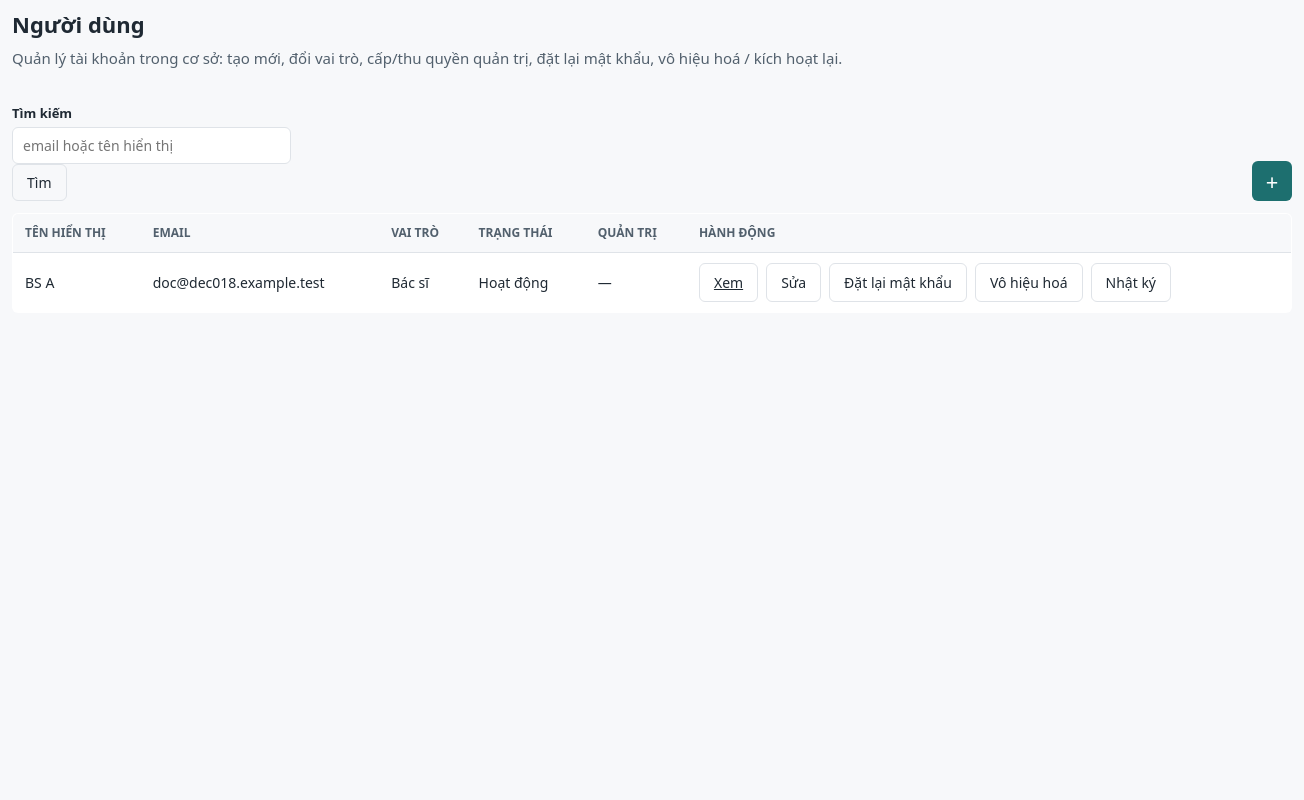
it: UsersPage (DEC-018 T5) › surfaces a 409 last-admin error from the server as an error toast
The width and height of the screenshot is (1304, 800).
Check: the text "doc@dec018.example.test" is shown, box [141, 252, 379, 312]
Click the button "Vô hiệu hoá" at (1029, 282), box [975, 263, 1083, 302]
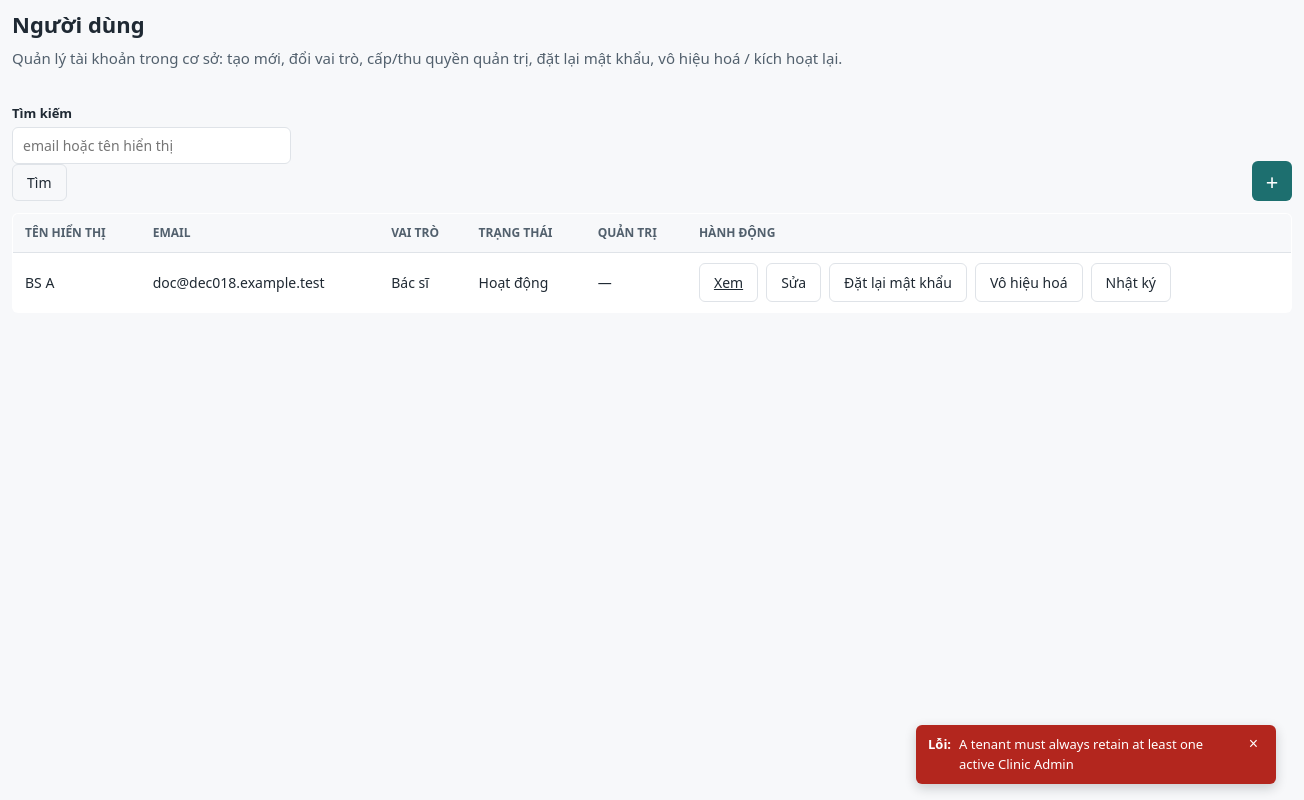
Check: the text "Lỗi: A tenant must always retain at least one active Clinic Admin ×" is shown, box [916, 725, 1276, 784]
